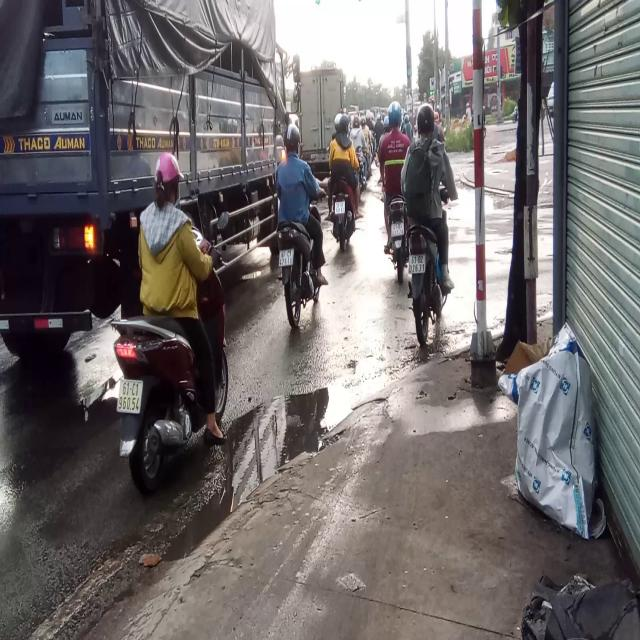bien_trang: (116, 379, 143, 414)
